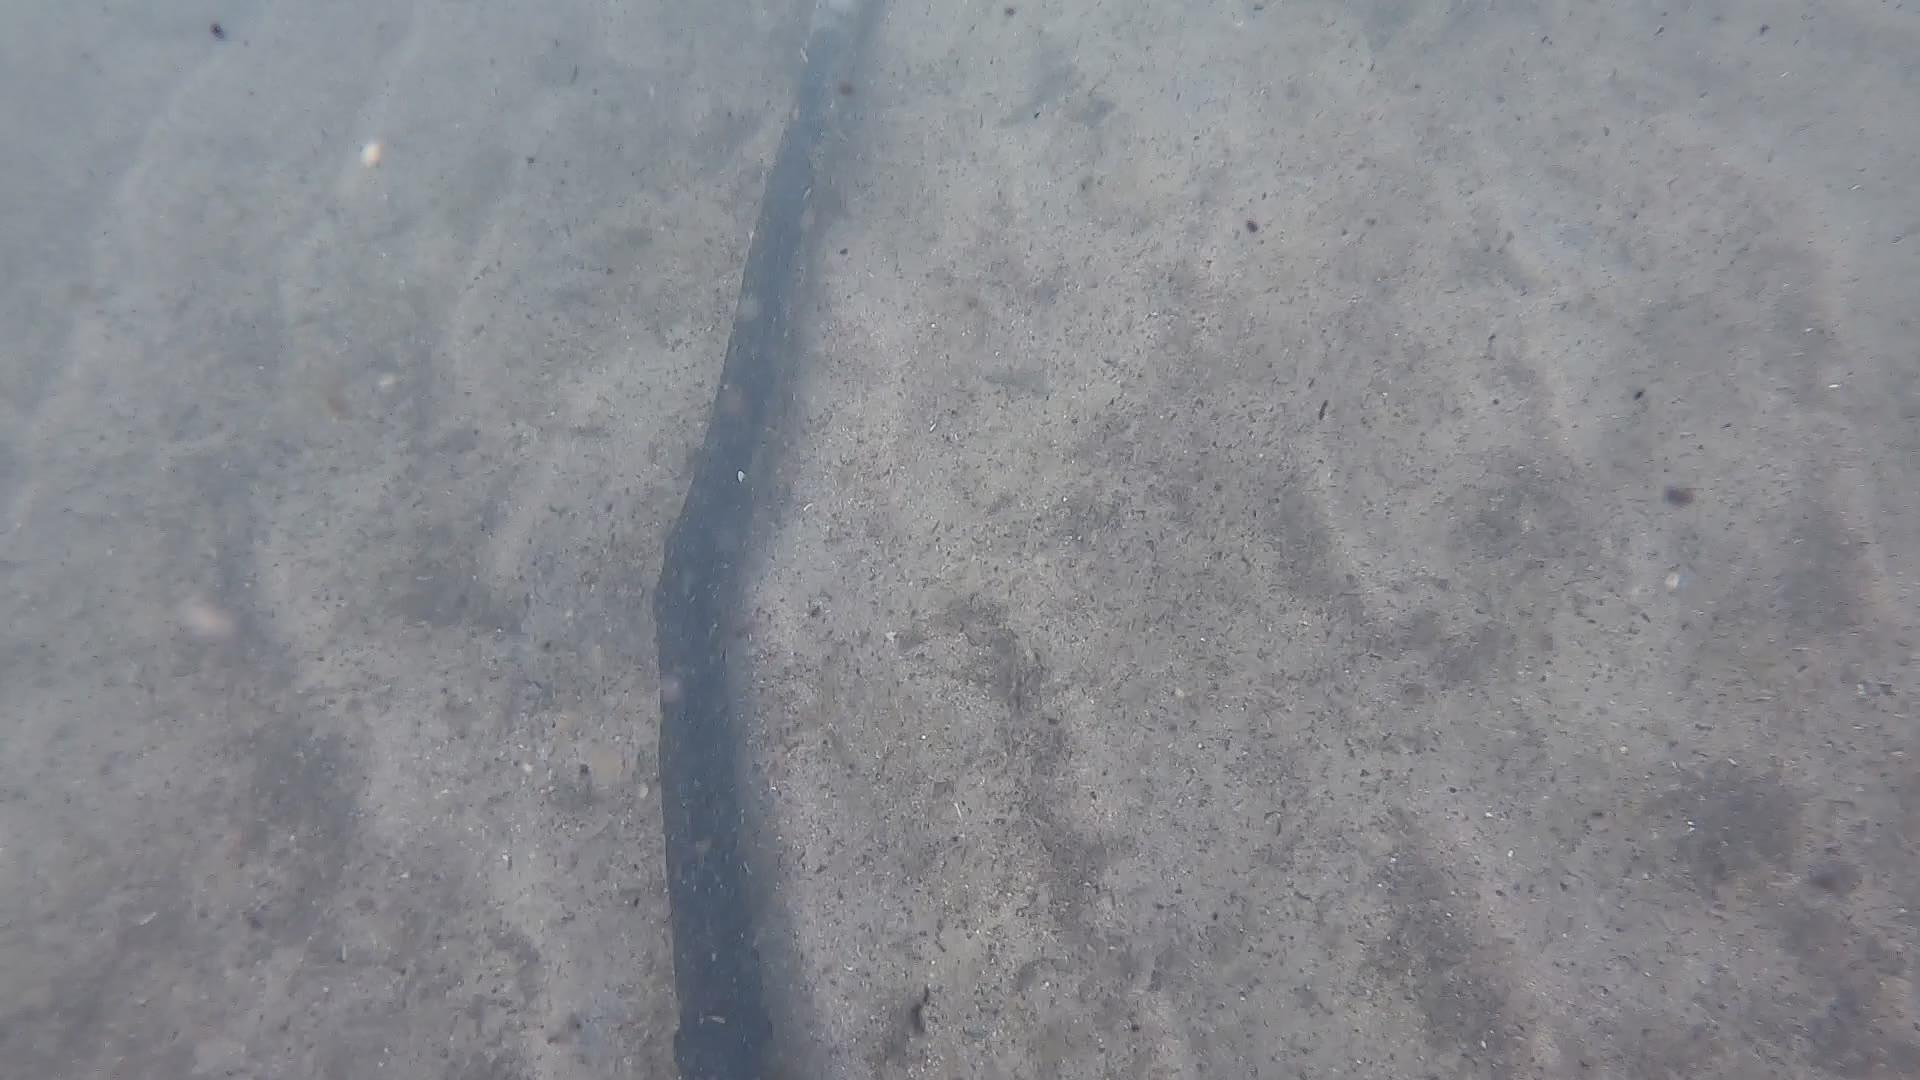wood: (649, 0, 865, 1080)
